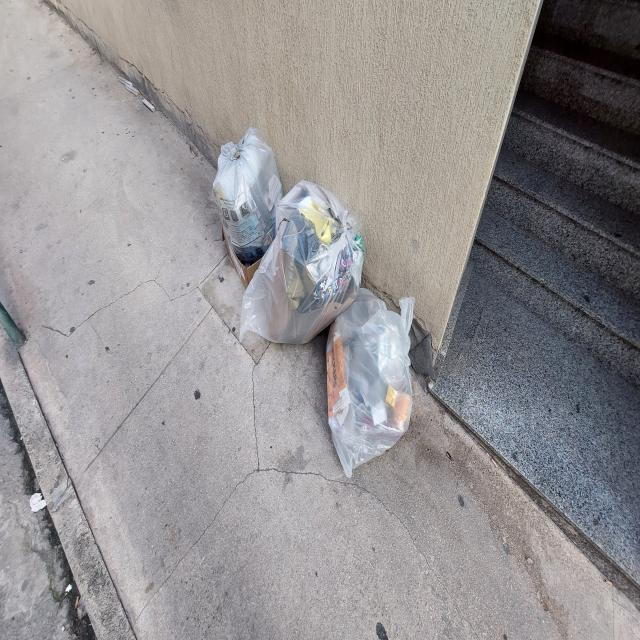Other: (223, 225, 265, 291)
Recycled Waste -Grey or Green Bag-: (239, 180, 367, 343), (328, 287, 416, 481), (214, 126, 286, 257)
